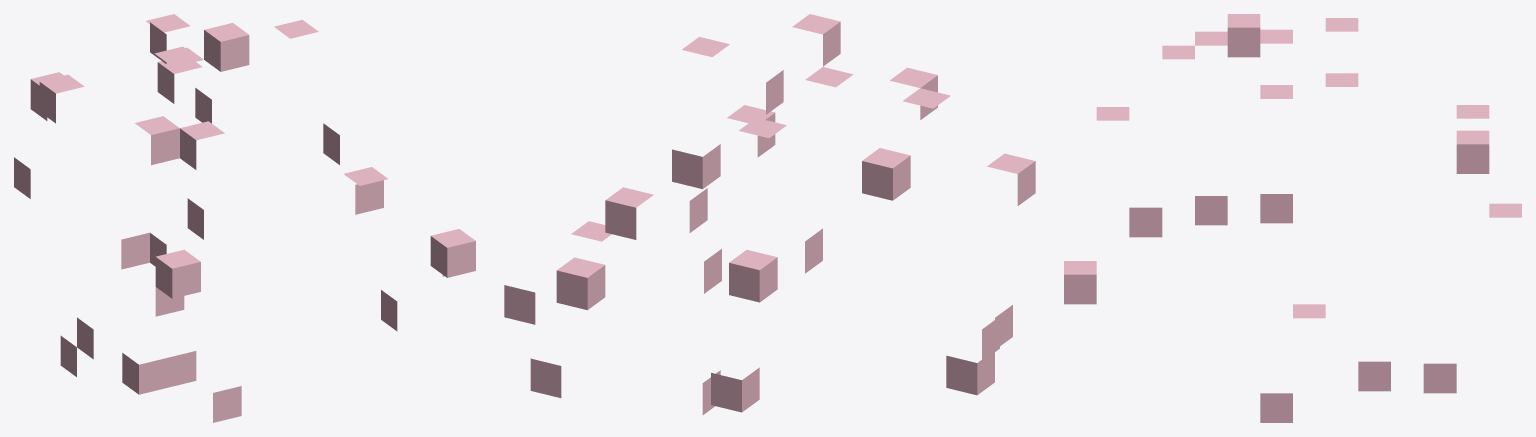
Rendered from tree-cherry-1p3-white-f9c6d6.gltf.
3 renders of one model, left to right at view 1: azimuth 30°, elevation 25°; view 2: azimuth 150°, elevation 25°; view 3: azimuth 270°, elevation 25°, orthographic. The views are drawn at different scales.
Parts seen in each view (by area): view 1: tree-cherry-1p3-white-f9c6d6; view 2: tree-cherry-1p3-white-f9c6d6; view 3: tree-cherry-1p3-white-f9c6d6.
Part boxes in pixels (<box>): tree-cherry-1p3-white-f9c6d6: <box>14,14,475,422</box>; tree-cherry-1p3-white-f9c6d6: <box>504,14,1035,414</box>; tree-cherry-1p3-white-f9c6d6: <box>1064,14,1521,422</box>.
Size of the model in its own units: 13 by 11 by 14.
